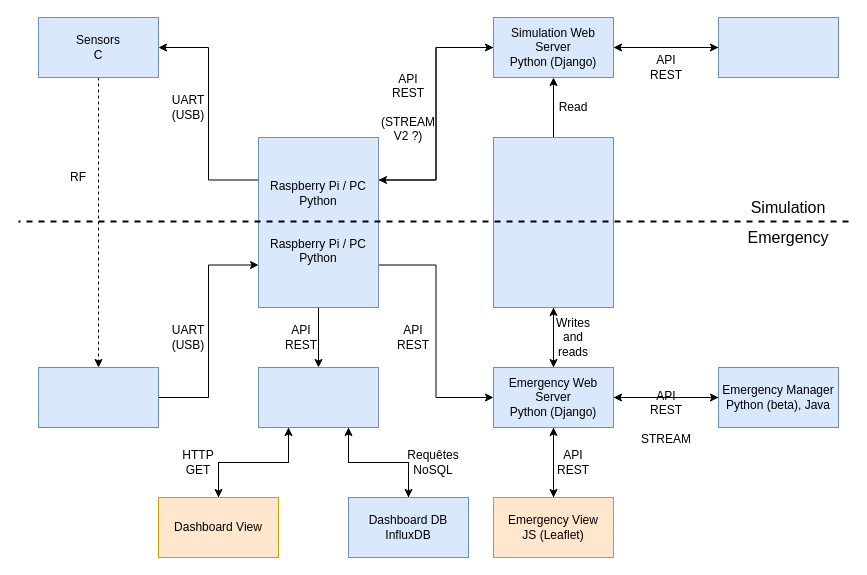
The diagram is 867 pixels wide and 575 high, and some of its shapes have lost their labels. Here are the shapes that lost their labels. From the top down, the centre of each, then its label:
At pixel 778 47: "Simulator Python (beta), Java".
At pixel 553 222: "DB PostgreSQL".
At pixel 98 397: "Data Collect C".
At pixel 318 397: "Dashboard Web Server Mosquitto Grafana".
